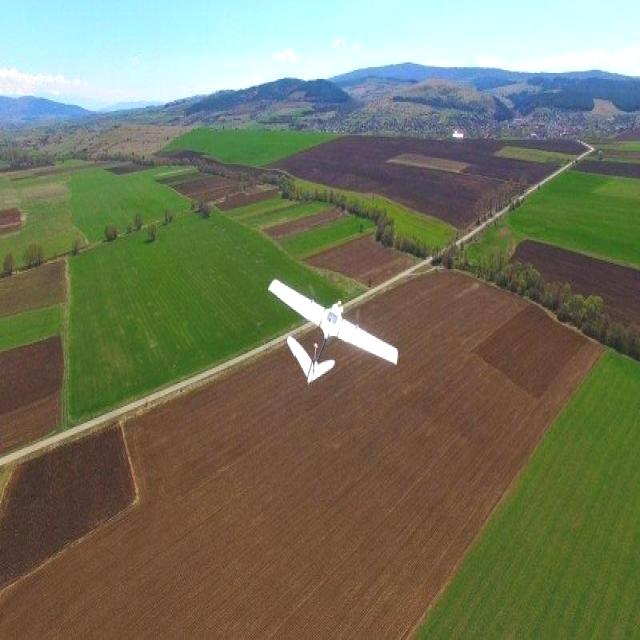plane: (268, 277, 401, 384)
